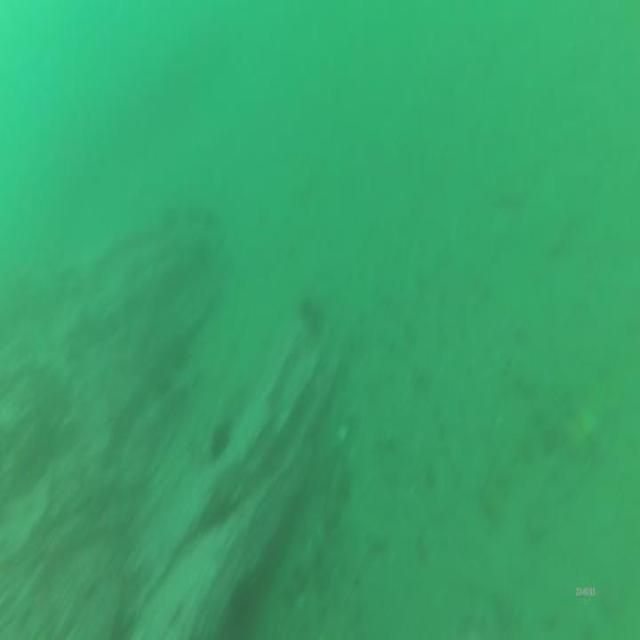echinus: (294, 291, 318, 330), (208, 424, 231, 463)
